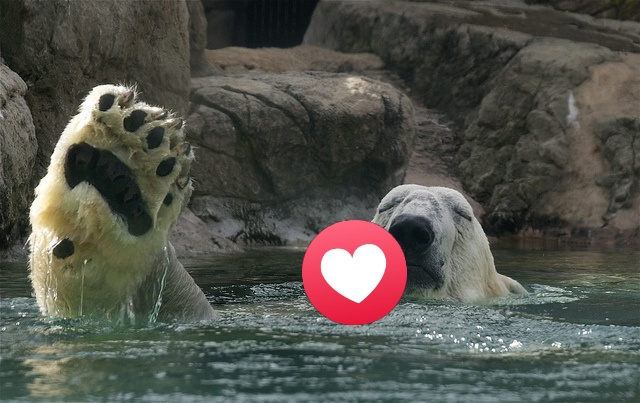love: (302, 220, 407, 325)
